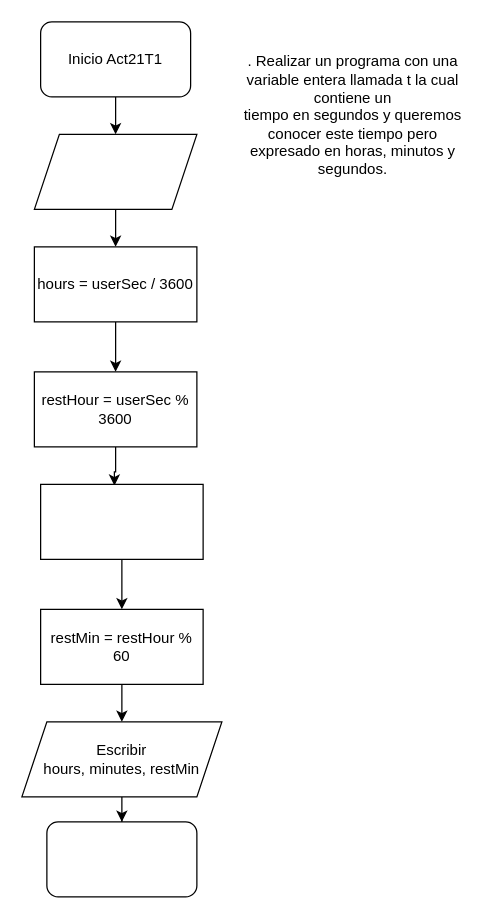
Some shapes in this 494 by 919 pixel diagram are drawn without their labels. Each missing label, with the box of its shape:
Fin Act21T1: (46, 821, 197, 897)
Leer userSec: (33, 133, 197, 209)
minutes = restHour / 60: (39, 483, 203, 559)
